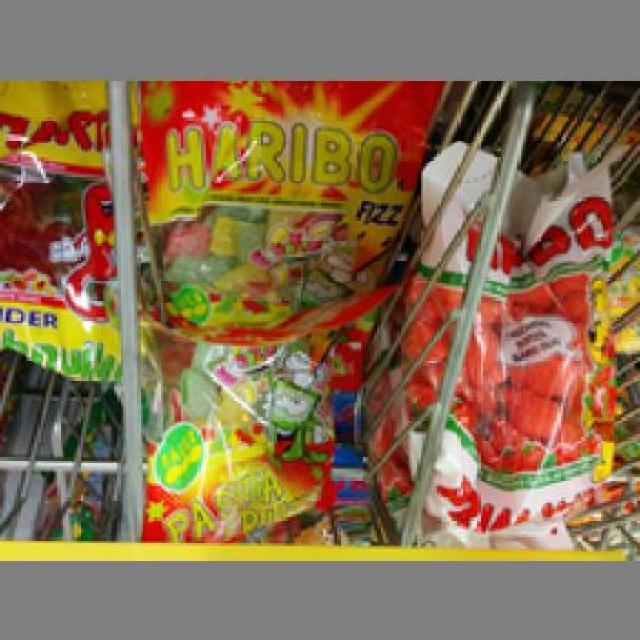Candy: (137, 74, 440, 346), (408, 140, 614, 534)
